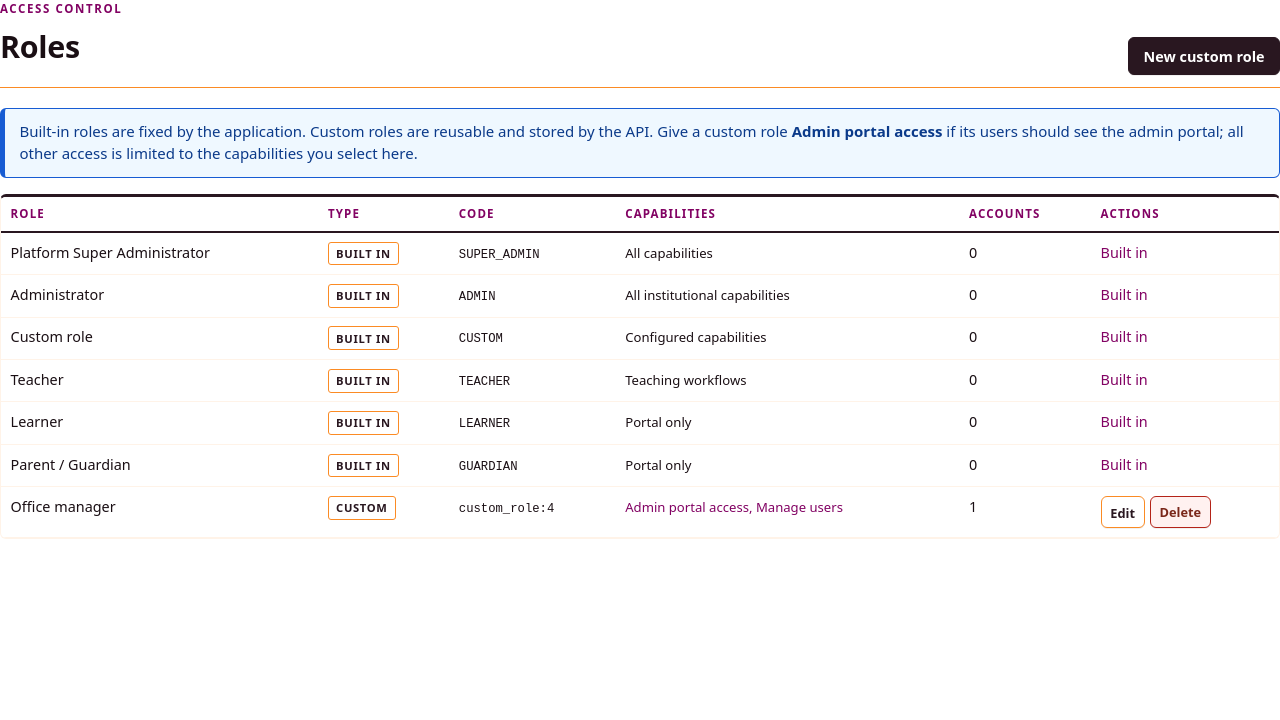
Test: Roles custom role manager › creates a custom role with a grouped permission picker
Later steps or results of the test are not shown.
Click the button "New custom role" at (1204,56), box top-left (1128, 37), bottom-right (1279, 75)
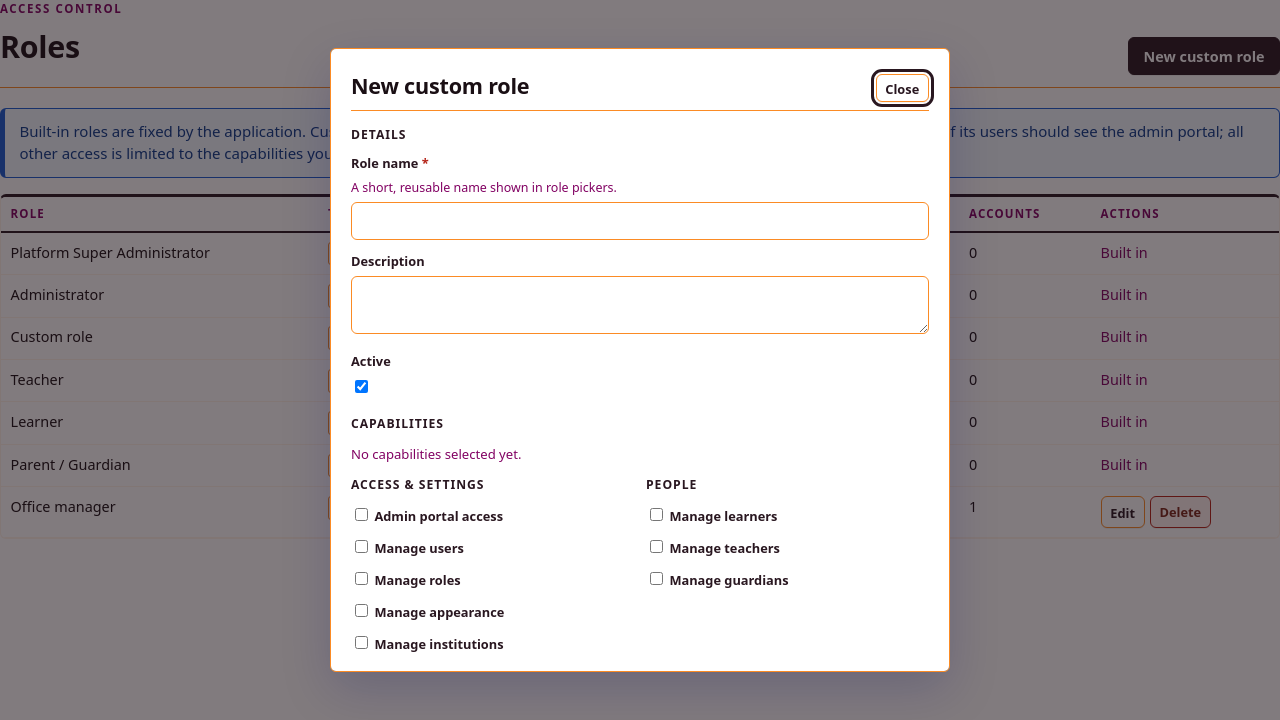
Type "Report viewer" into the field labelled "Role name" at (640,221), box top-left (351, 202), bottom-right (929, 240)
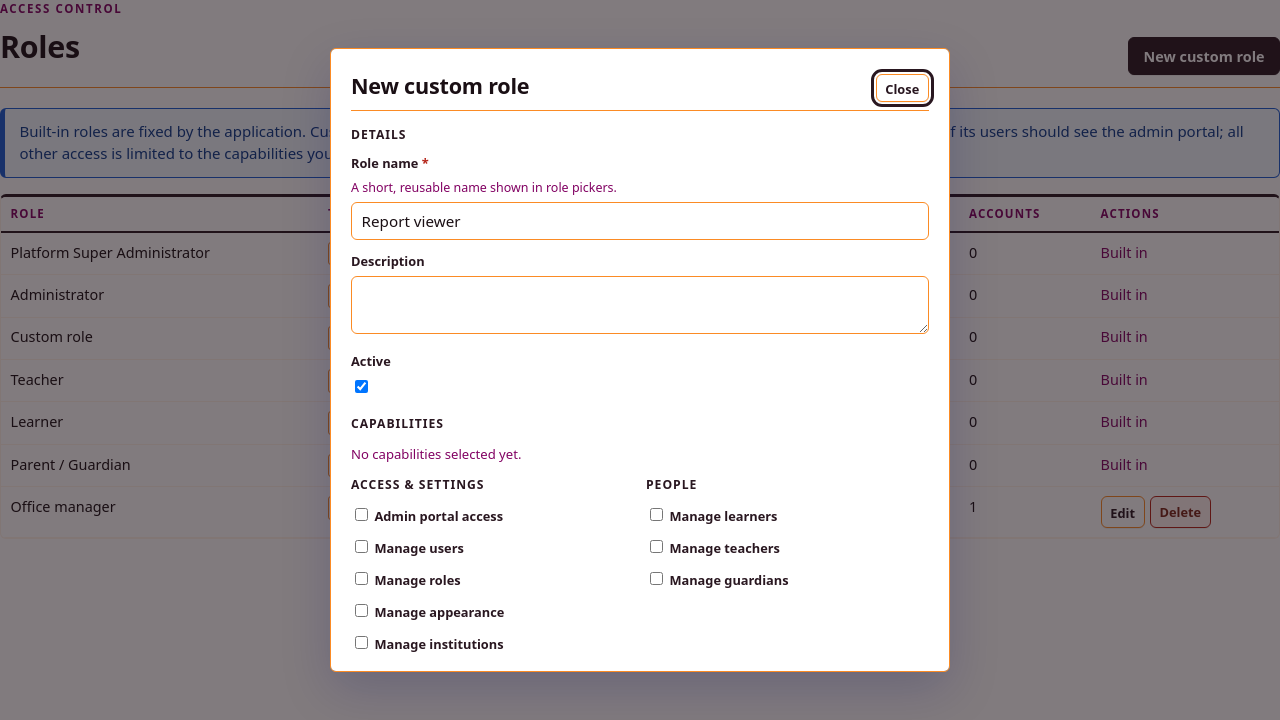
Type "Reads reports" into the text box labelled "Description" at (640,305), box top-left (351, 276), bottom-right (929, 334)
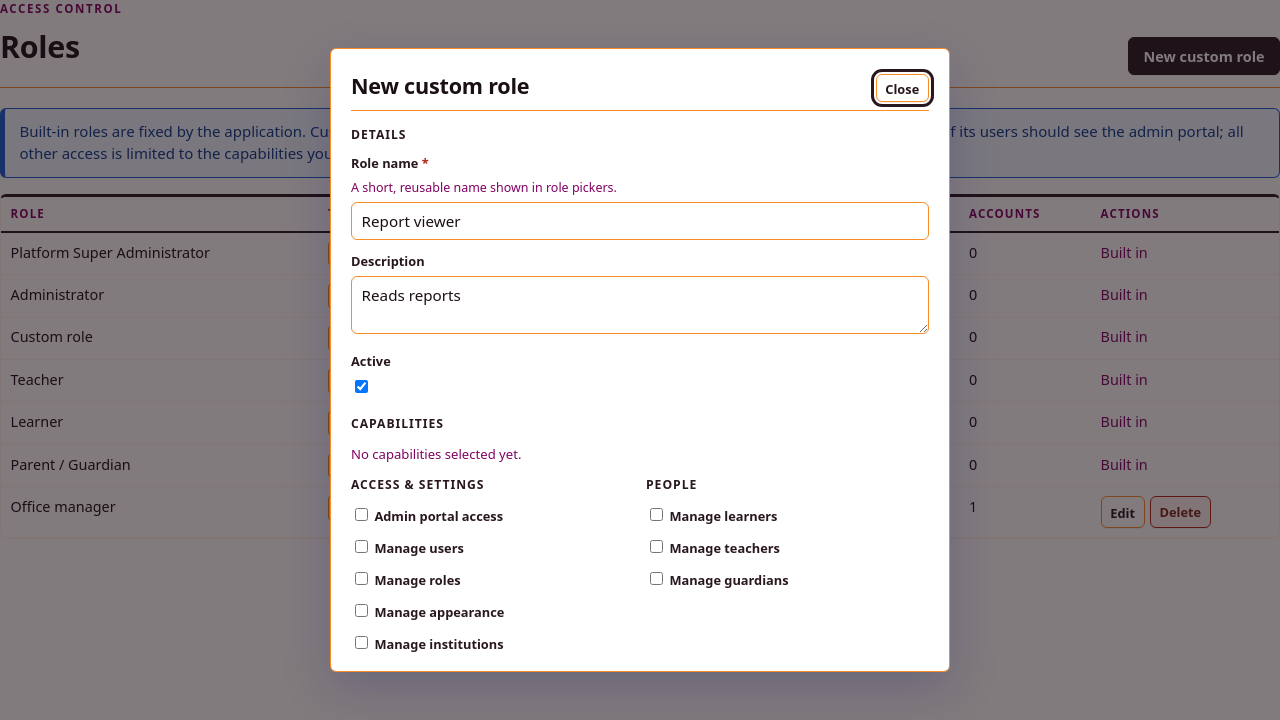
Click the checkbox labelled "Admin portal access" at (362,514), box top-left (355, 508), bottom-right (368, 521)
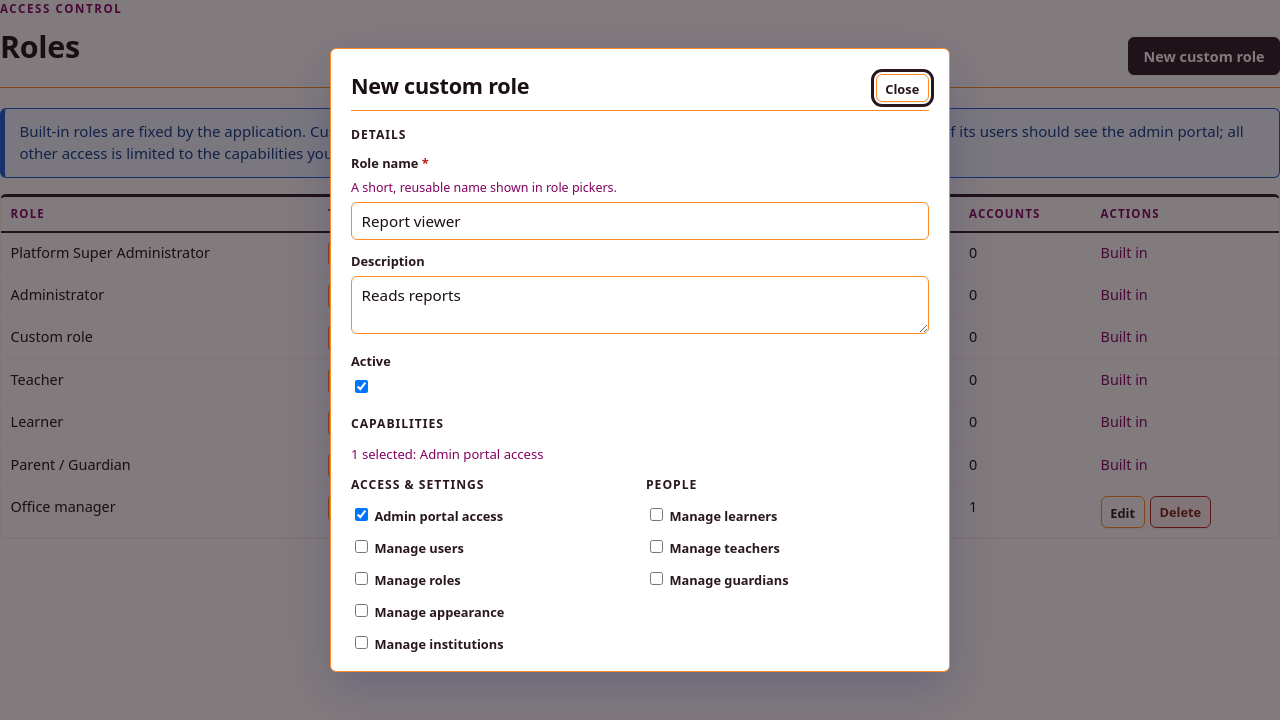
Click the checkbox labelled "Manage users" at (362,546), box top-left (355, 540), bottom-right (368, 553)
(page scrolled)
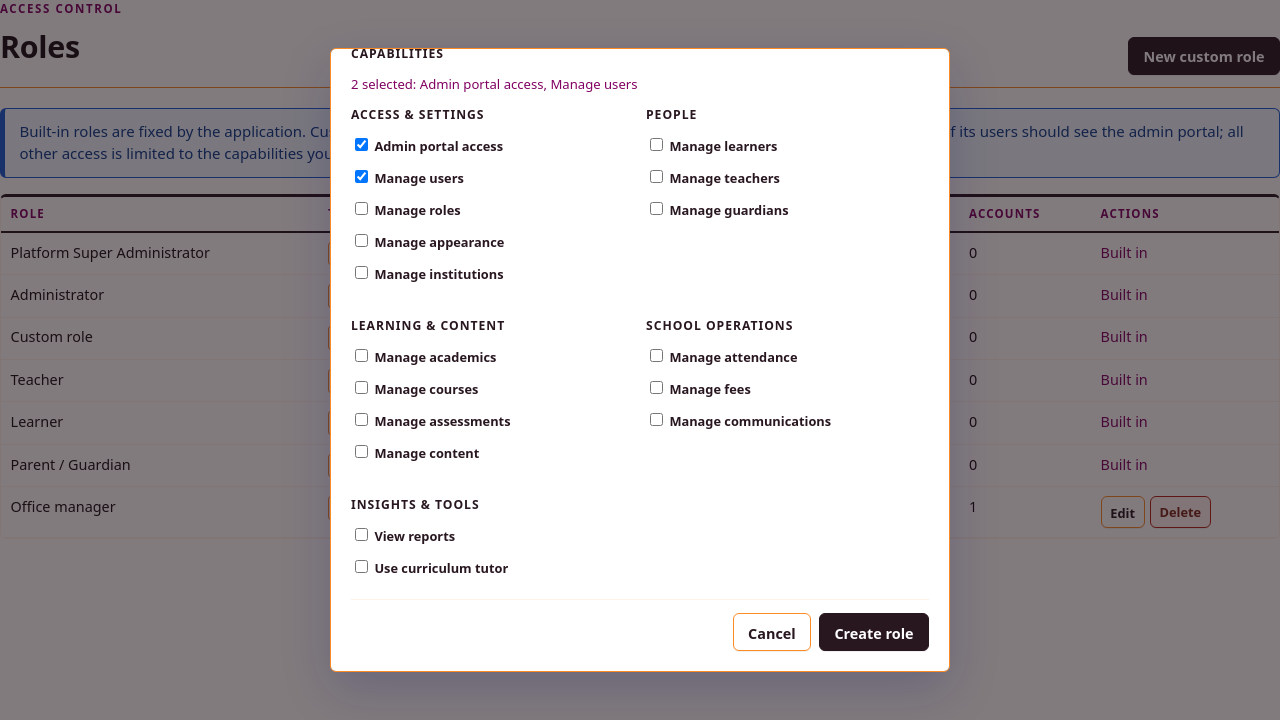
Result: the text "2 selected: Admin portal access, Manage users" is shown at top-left (351, 75), bottom-right (638, 93)
